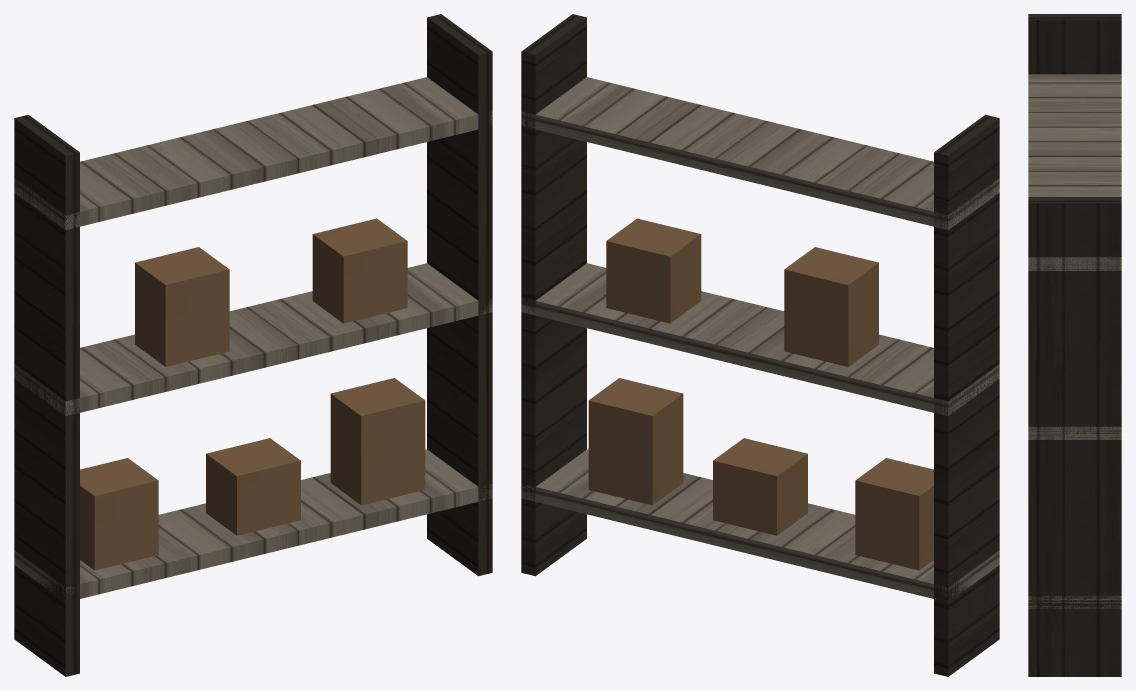
File: shelf_wall_01.glb
3 views of the same model, side by side, from view 1: azimuth 30°, elevation 25°; view 2: azimuth 150°, elevation 25°; view 3: azimuth 270°, elevation 25° (orthographic). The views are drawn at different scales.
Parts seen in each view (by area): view 1: shelf_wall_01; view 2: shelf_wall_01; view 3: shelf_wall_01.
Boxes of the visible parts, bbox=[...] form: shelf_wall_01: bbox=[14, 14, 492, 676]; shelf_wall_01: bbox=[521, 14, 999, 676]; shelf_wall_01: bbox=[1028, 14, 1121, 676].
Bounding box in the file's own units: 1.2 × 1.4 × 0.25.
3 materials, 3 textured.
